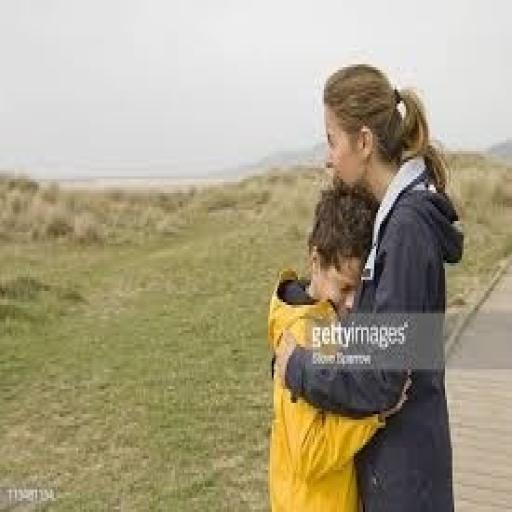hugging: (266, 59, 466, 509)
